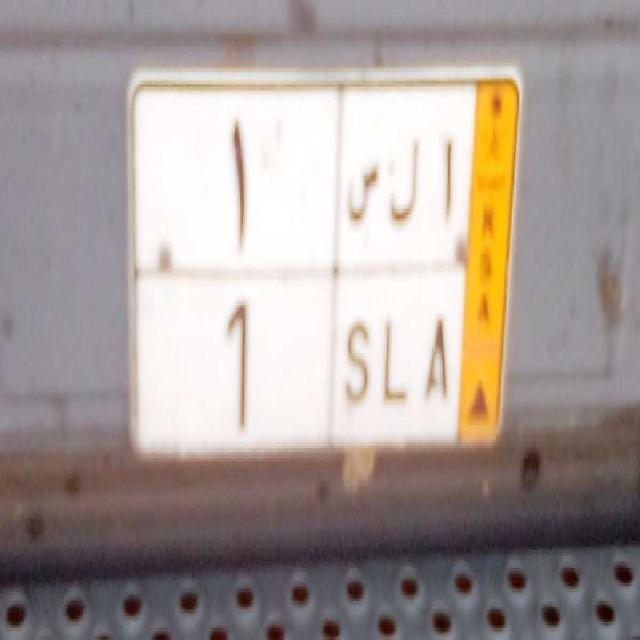license_plate: (128, 266, 460, 444)
